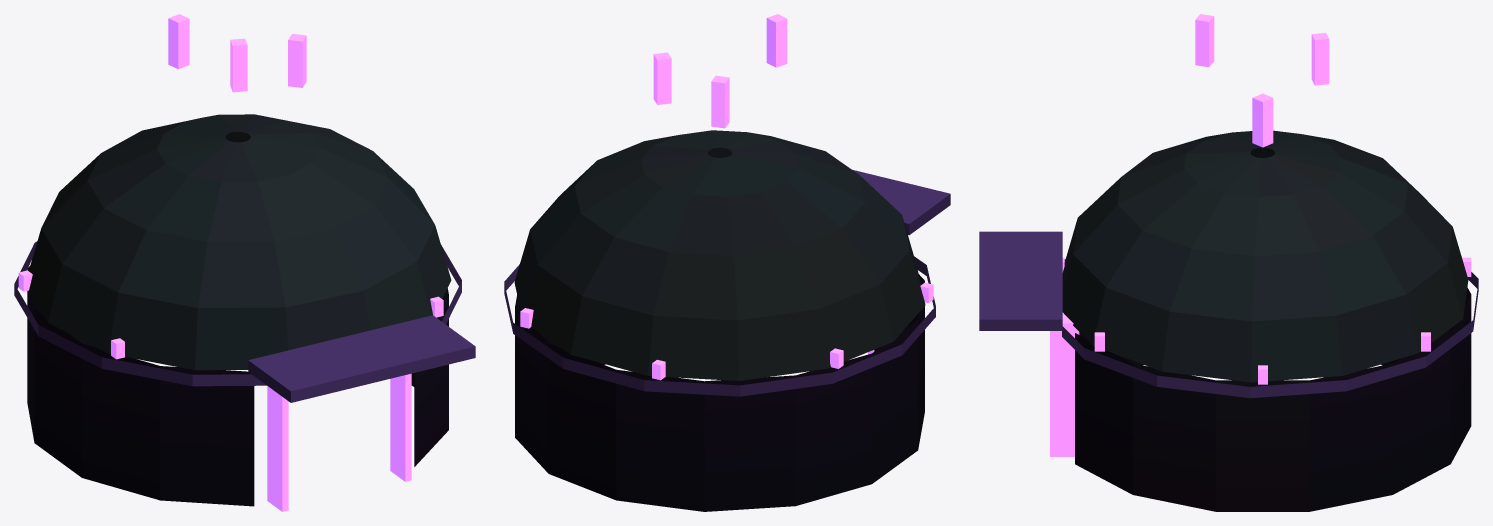
File: shaddai_dist_void_home_b_v01.glb
The picture shows the model from 3 angles, left to right: view 1: azimuth 30°, elevation 25°; view 2: azimuth 150°, elevation 25°; view 3: azimuth 270°, elevation 25°; orthographic projection. The views are drawn at different scales.
Visible parts, largest first — view 1: shaddai_dist_void_home_b; view 2: shaddai_dist_void_home_b; view 3: shaddai_dist_void_home_b.
Boxes of the visible parts, bbox=[...] form: shaddai_dist_void_home_b: bbox=[14, 14, 475, 511]; shaddai_dist_void_home_b: bbox=[504, 14, 950, 511]; shaddai_dist_void_home_b: bbox=[979, 14, 1478, 511].
Size of the model in its own units: 10.48 by 10.43 by 11.98.
